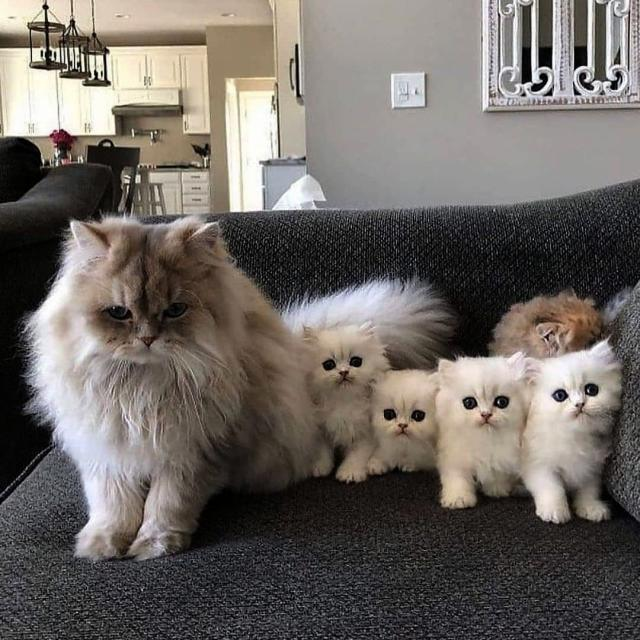Cats: (30, 203, 295, 572), (534, 346, 630, 532), (427, 354, 536, 503), (310, 310, 376, 500), (364, 368, 450, 481)
